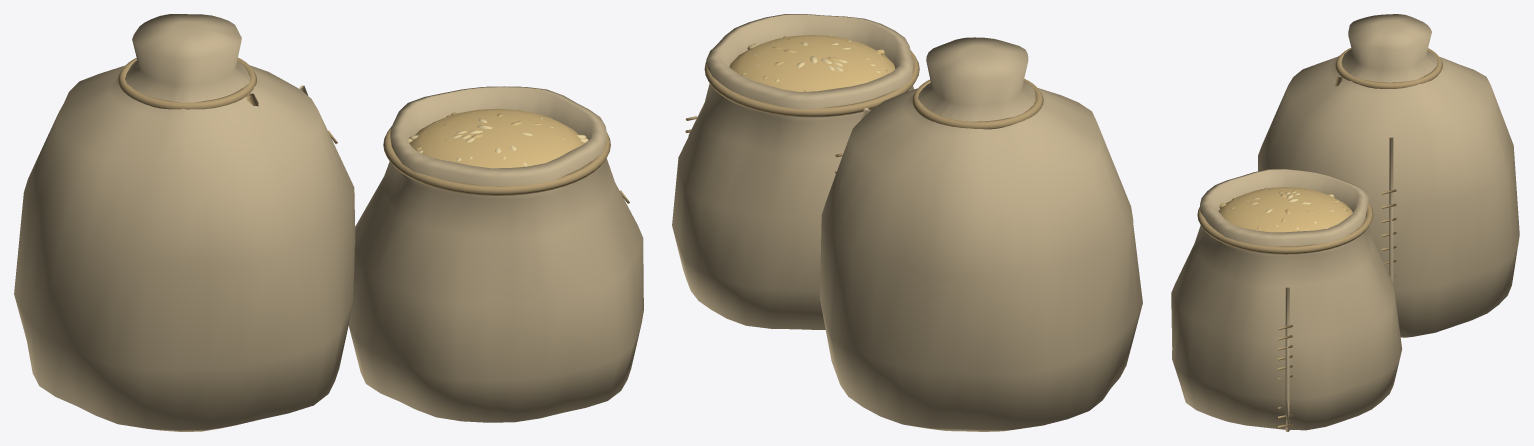
The model's file is grain.glb.
3 views of the same model, side by side, from view 1: azimuth 30°, elevation 25°; view 2: azimuth 150°, elevation 25°; view 3: azimuth 270°, elevation 25° (orthographic). The views are drawn at different scales.
Visible parts, largest first — view 1: Cargo_grain; view 2: Cargo_grain; view 3: Cargo_grain.
Boxes of the visible parts, x1,y1,x2,y2 form: Cargo_grain: (14,14,643,431); Cargo_grain: (672,14,1142,431); Cargo_grain: (1171,14,1519,431).
Bounding box in the file's own units: 1.03 × 0.6829 × 0.7728.
